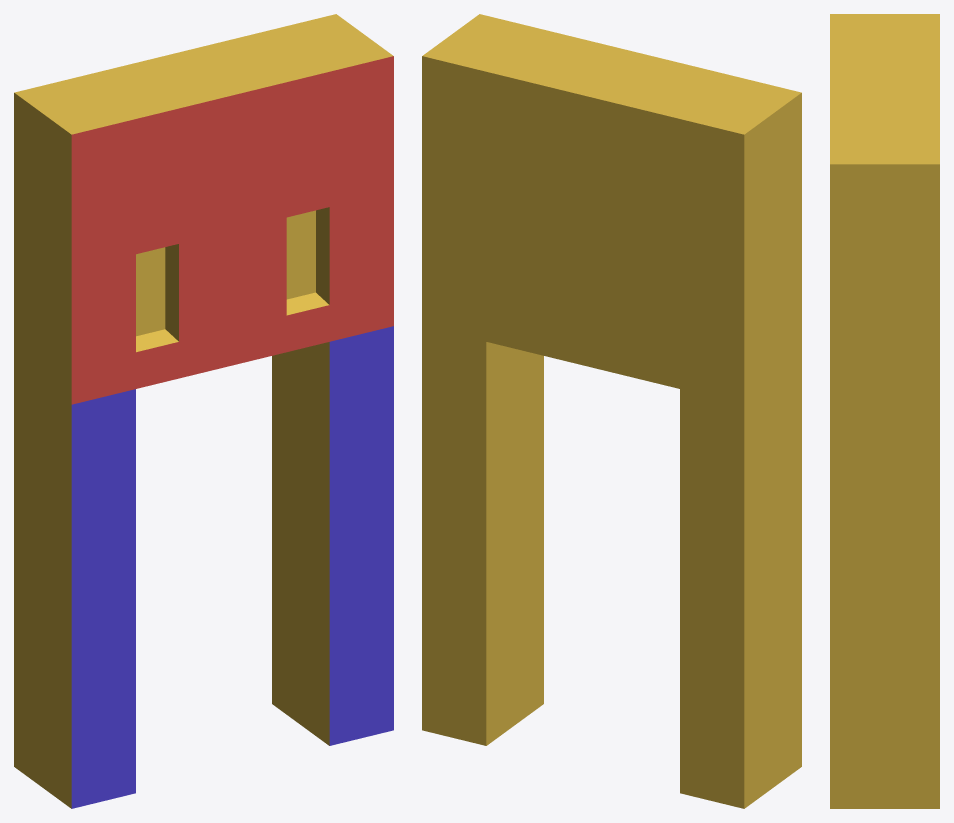
The model's file is Desert_Door_Body_low.fbx.
3 renders of one model, left to right at view 1: azimuth 30°, elevation 25°; view 2: azimuth 150°, elevation 25°; view 3: azimuth 270°, elevation 25°, orthographic. The views are drawn at different scales.
Visible parts, largest first — view 1: Desert_Door_Body; view 2: Desert_Door_Body; view 3: Desert_Door_Body.
Part boxes in pixels (left/top/right/bottom): Desert_Door_Body: left=14, top=14, right=393, bottom=808; Desert_Door_Body: left=422, top=14, right=801, bottom=808; Desert_Door_Body: left=830, top=14, right=939, bottom=808.
Size of the model in its own units: 4 by 8 by 1.24.
